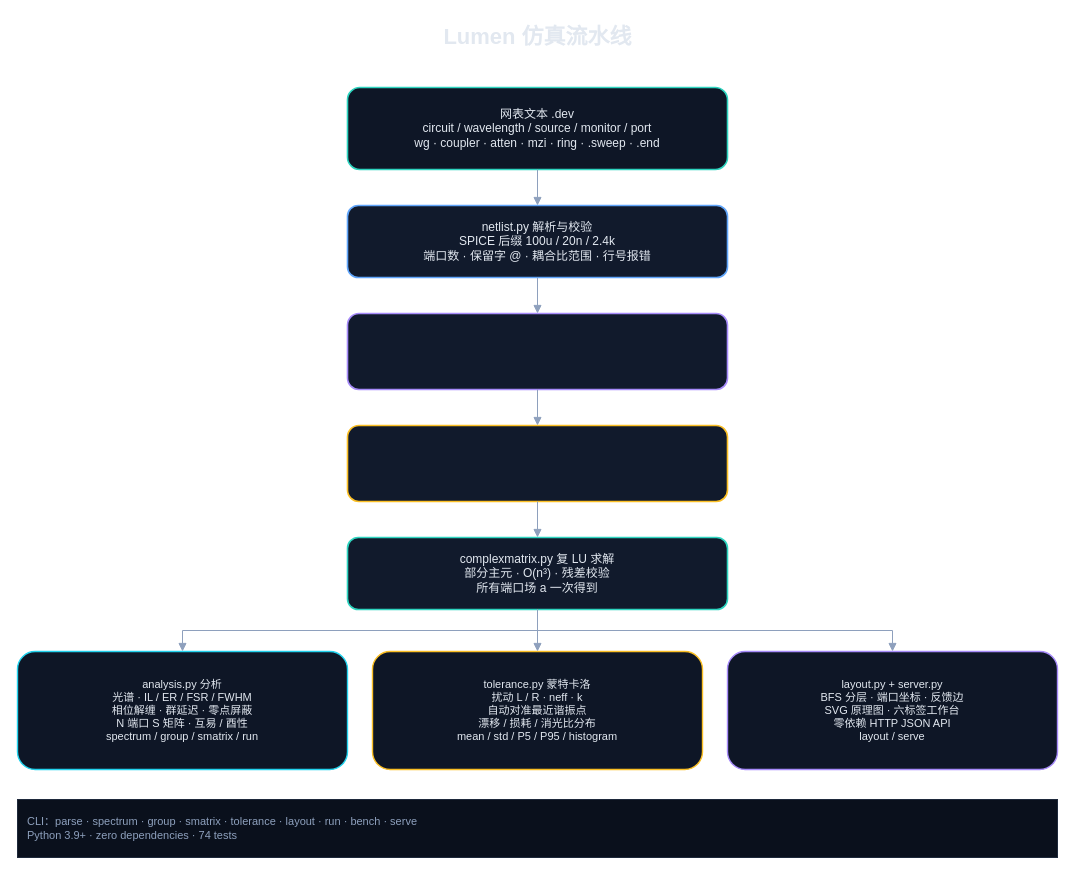
The diagram is 1076 pixels wide and 875 high, and some of its shapes have lost their labels. The shapes that lost their labels are listed below. From the top down, each one's centre as x and y in pixels, then its label:
[537,351]: circuit.py 层次展开 mzi / ring → 耦合器 + 波导原语 内部网 @arm1 · @r1a 自动隔离
[537,463]: 逐波长组装线性系统 (I − S P) a = b ，网名合并端口 反馈环进入矩阵，不做迭代近似
